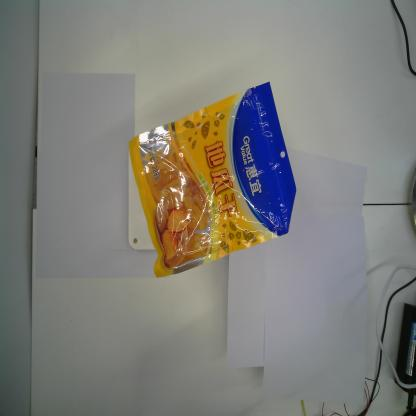Dried Fruit: (128, 80, 298, 280)
